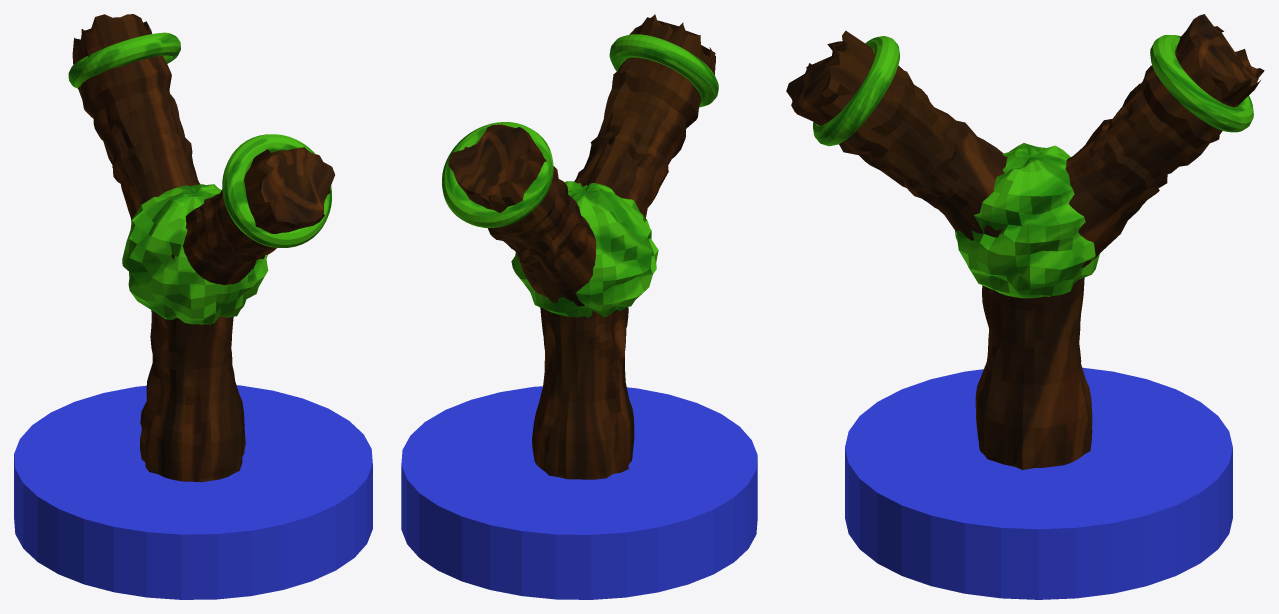
File: Slingshot2.fbx
The picture shows the model from 3 angles, left to right: view 1: azimuth 30°, elevation 25°; view 2: azimuth 150°, elevation 25°; view 3: azimuth 270°, elevation 25°; orthographic projection. The views are drawn at different scales.
Parts seen in each view (by area): view 1: Cylinder.004; view 2: Cylinder.004; view 3: Cylinder.004.
Boxes of the visible parts, x1=… form: Cylinder.004: x1=14, y1=14, x2=372, y2=599; Cylinder.004: x1=401, y1=14, x2=757, y2=599; Cylinder.004: x1=786, y1=14, x2=1264, y2=599.
Bounding box in the file's own units: 200 × 282 × 247.
